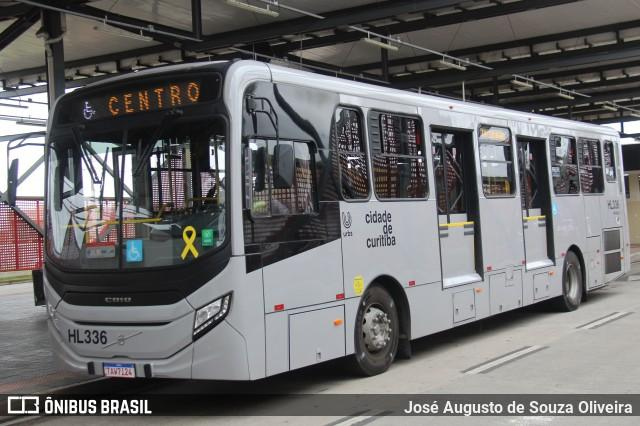CENTRO: (102, 79, 202, 120)
